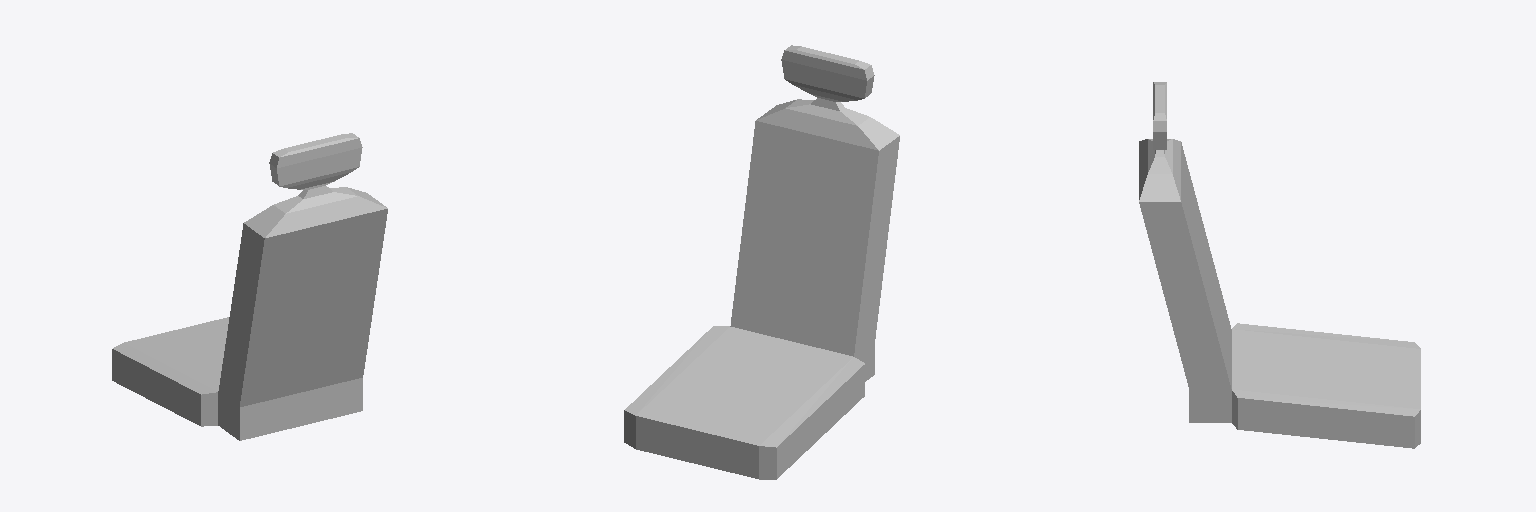
The model's file is seat.obj.
3 renders of one model, left to right at view 1: azimuth 30°, elevation 25°; view 2: azimuth 150°, elevation 25°; view 3: azimuth 270°, elevation 25°, orthographic.
Visible parts, largest first — view 1: Cube.009_Cube.010; view 2: Cube.009_Cube.010; view 3: Cube.009_Cube.010.
Boxes of the visible parts, x1=… form: Cube.009_Cube.010: x1=112, y1=133, x2=387, y2=440; Cube.009_Cube.010: x1=624, y1=45, x2=899, y2=479; Cube.009_Cube.010: x1=1139, y1=82, x2=1420, y2=448.
Bounding box in the file's own units: 0.322 × 0.6328 × 0.516.